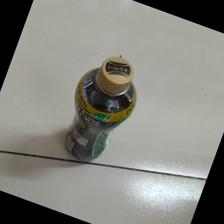Olong: (62, 55, 140, 165)
